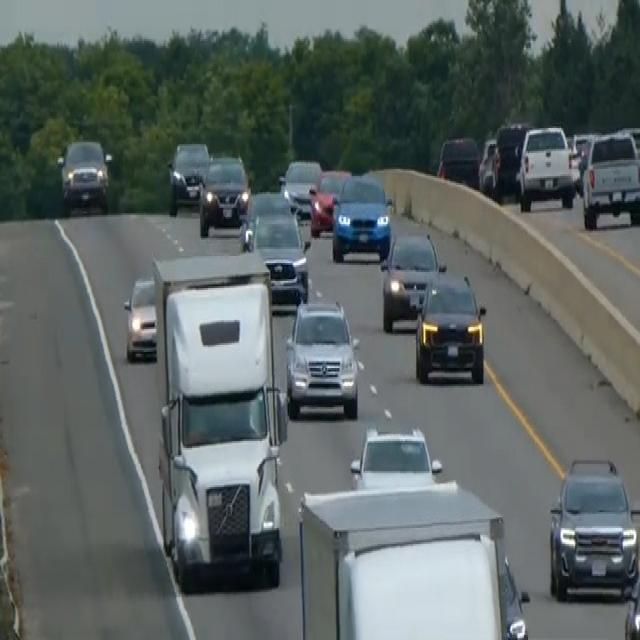car: (547, 453, 639, 603), (284, 295, 360, 420), (414, 270, 487, 384), (378, 228, 445, 332), (349, 421, 443, 489), (246, 208, 309, 304), (580, 128, 639, 229), (330, 171, 392, 263), (515, 122, 575, 212), (197, 151, 250, 235), (56, 135, 111, 213), (166, 137, 210, 213), (489, 119, 530, 199), (239, 187, 294, 245), (122, 274, 158, 362), (308, 167, 351, 237), (280, 156, 322, 217), (436, 132, 480, 188), (623, 539, 639, 638), (477, 135, 498, 194)
lorry: (150, 249, 289, 588), (297, 476, 528, 638)
